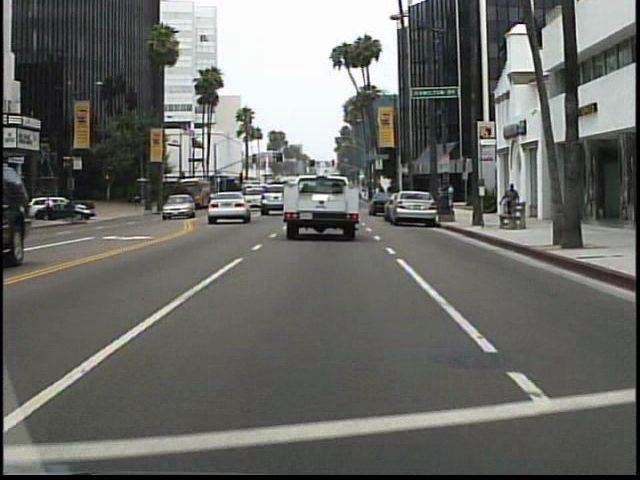person: (499, 181, 521, 224), (133, 189, 144, 215)
